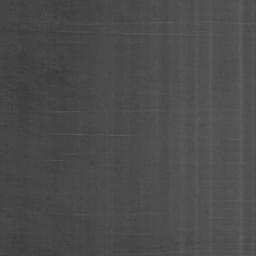Waist folding: (0, 19, 215, 36), (52, 109, 136, 114), (62, 132, 126, 138), (232, 138, 256, 142), (176, 241, 199, 245), (185, 163, 211, 165)
